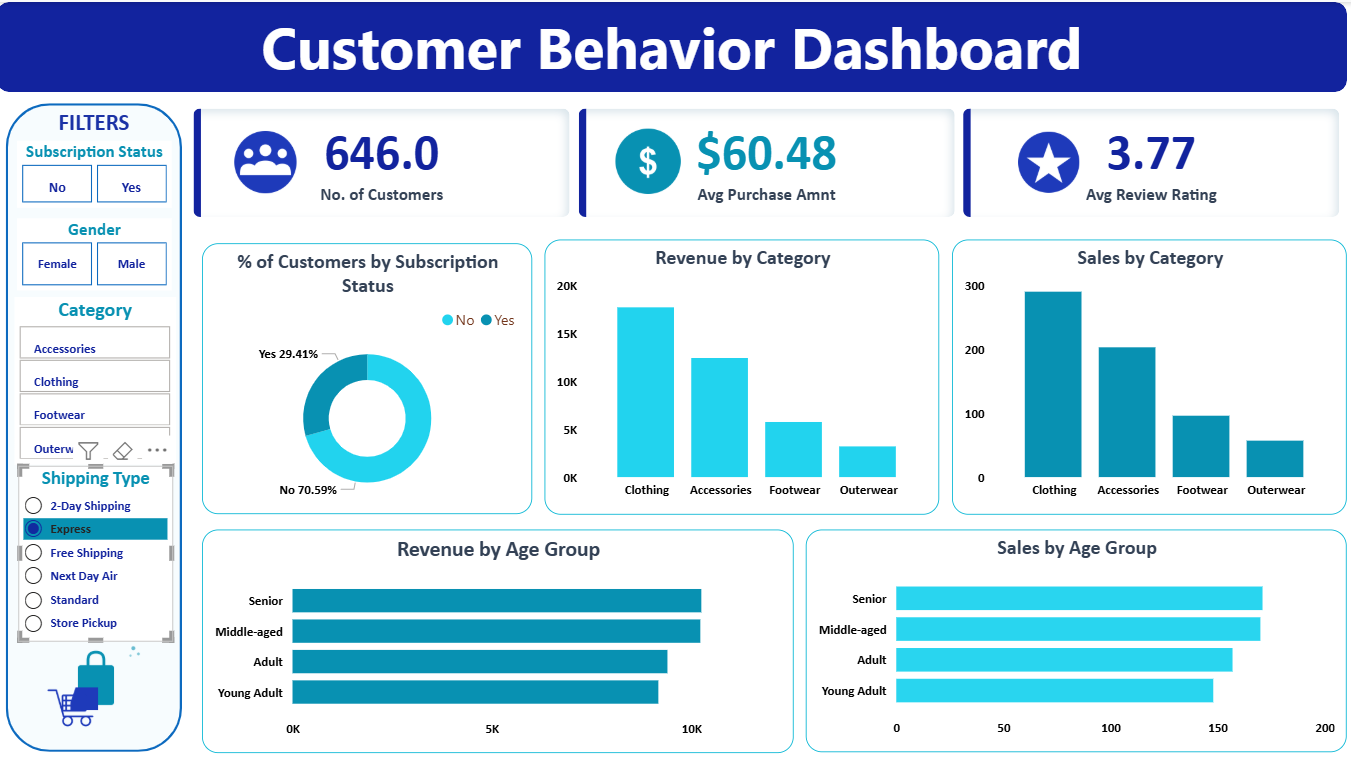

The page's visual inventory and layout, read from the dashboard file:
{"tool":"powerbi","page":{"name":"Page 1","canvas":[1280,720],"ordinal":0},"visuals":[{"type":"shape","box":[0,0,1255.8,83.7],"z":0},{"type":"donutChart","title":"% of Customers by Subscription Status","fields":{"Category":["customer_behavior.subscription_status"],"Y":["CountNonNull(customer_behavior.customer_id)"]},"box":[190.7,224.4,307,252.3],"z":1000},{"type":"clusteredColumnChart","title":"Revenue by Category","fields":{"Y":["Sum(customer_behavior.purchase_amount)"],"Category":["customer_behavior.category"]},"box":[509.3,220.9,367.4,255.8],"z":2000},{"type":"clusteredColumnChart","title":"Sales by Category","fields":{"Category":["customer_behavior.category"],"Y":["CountNonNull(customer_behavior.customer_id)"]},"box":[888.4,220.9,367.4,255.8],"z":3000},{"type":"clusteredBarChart","title":"Revenue by Age Group","fields":{"Y":["Sum(customer_behavior.purchase_amount)"],"Category":["customer_behavior.age_group"]},"box":[190.7,490.7,550,208.1],"z":4000},{"type":"clusteredBarChart","title":"Sales by Age Group","fields":{"Y":["CountNonNull(customer_behavior.customer_id)"],"Category":["customer_behavior.age_group"]},"box":[752.3,490.7,503.5,207],"z":5000},{"type":"shape","box":[8.1,94.2,164,603.5],"z":6000},{"type":"advancedSlicerVisual","title":"Subscription Status","fields":{"Values":["customer_behavior.subscription_status"]},"box":[18.6,129.1,144.2,62.8],"z":7000},{"type":"advancedSlicerVisual","title":"Category","fields":{"Values":["customer_behavior.category"]},"box":[16.3,274.4,150,155.8],"z":8000},{"type":"listSlicer","title":"Shipping Type","fields":{"Values":["customer_behavior.shipping_type"]},"box":[19.8,431.4,144.2,164],"z":9000},{"type":"cardVisual","fields":{"Data":["customer_behavior.No. of Customers","customer_behavior.Avg Purchase Amnt","customer_behavior.Avg Review Rating"]},"box":[177.9,94.2,1077.9,111.6],"z":10000},{"type":"textbox","box":[0,0,1255.8,83.7],"z":11000},{"type":"advancedSlicerVisual","title":"Gender","fields":{"Values":["customer_behavior.gender"]},"box":[18.6,201.2,144.2,67.4],"z":12000},{"type":"image","box":[876.7,37.2,203.5,246.5],"z":13000},{"type":"image","box":[497.7,52.3,216.3,216.3],"z":14000},{"type":"image","box":[0,577.9,190.7,141.9],"z":15000},{"type":"textbox","box":[8.1,94.2,164,37.2],"z":16000},{"type":"image","box":[146.5,57,207,207],"z":17000}]}

Visuals, with their boxes in screenshot pixels (x1, y1, x2, y2), scaled from the page's 1280x720 canvas onto the 1351x761 screenshot:
shape: {"left": 0, "top": 0, "right": 1325, "bottom": 88}
"% of Customers by Subscription Status" donutChart: {"left": 201, "top": 237, "right": 525, "bottom": 504}
"Revenue by Category" clusteredColumnChart: {"left": 538, "top": 233, "right": 925, "bottom": 504}
"Sales by Category" clusteredColumnChart: {"left": 938, "top": 233, "right": 1325, "bottom": 504}
"Revenue by Age Group" clusteredBarChart: {"left": 201, "top": 519, "right": 782, "bottom": 739}
"Sales by Age Group" clusteredBarChart: {"left": 794, "top": 519, "right": 1325, "bottom": 737}
shape: {"left": 9, "top": 100, "right": 182, "bottom": 737}
"Subscription Status" advancedSlicerVisual: {"left": 20, "top": 136, "right": 172, "bottom": 203}
"Category" advancedSlicerVisual: {"left": 17, "top": 290, "right": 176, "bottom": 455}
"Shipping Type" listSlicer: {"left": 21, "top": 456, "right": 173, "bottom": 629}
cardVisual - customer_behavior.No. of Customers x customer_behavior.Avg Purchase Amnt: {"left": 188, "top": 100, "right": 1325, "bottom": 218}
textbox: {"left": 0, "top": 0, "right": 1325, "bottom": 88}
"Gender" advancedSlicerVisual: {"left": 20, "top": 213, "right": 172, "bottom": 284}
image: {"left": 925, "top": 39, "right": 1140, "bottom": 300}
image: {"left": 525, "top": 55, "right": 754, "bottom": 284}
image: {"left": 0, "top": 611, "right": 201, "bottom": 760}
textbox: {"left": 9, "top": 100, "right": 182, "bottom": 139}
image: {"left": 155, "top": 60, "right": 373, "bottom": 279}
